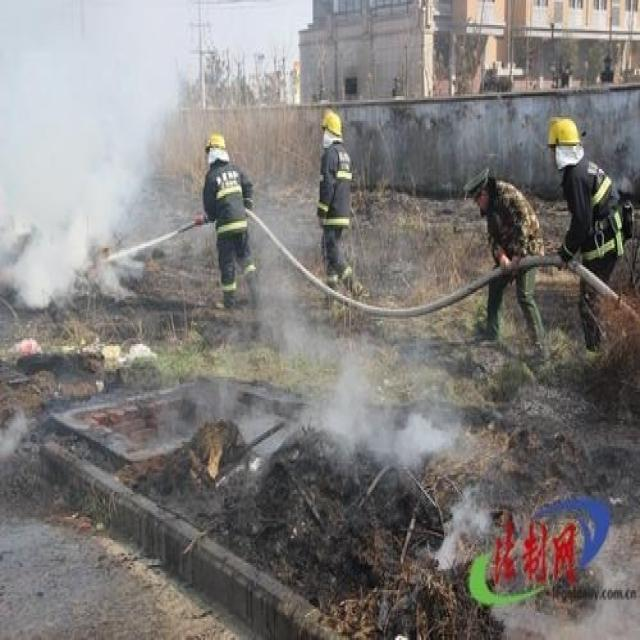Smoke: (1, 1, 183, 308), (212, 269, 459, 465), (428, 482, 502, 571)
